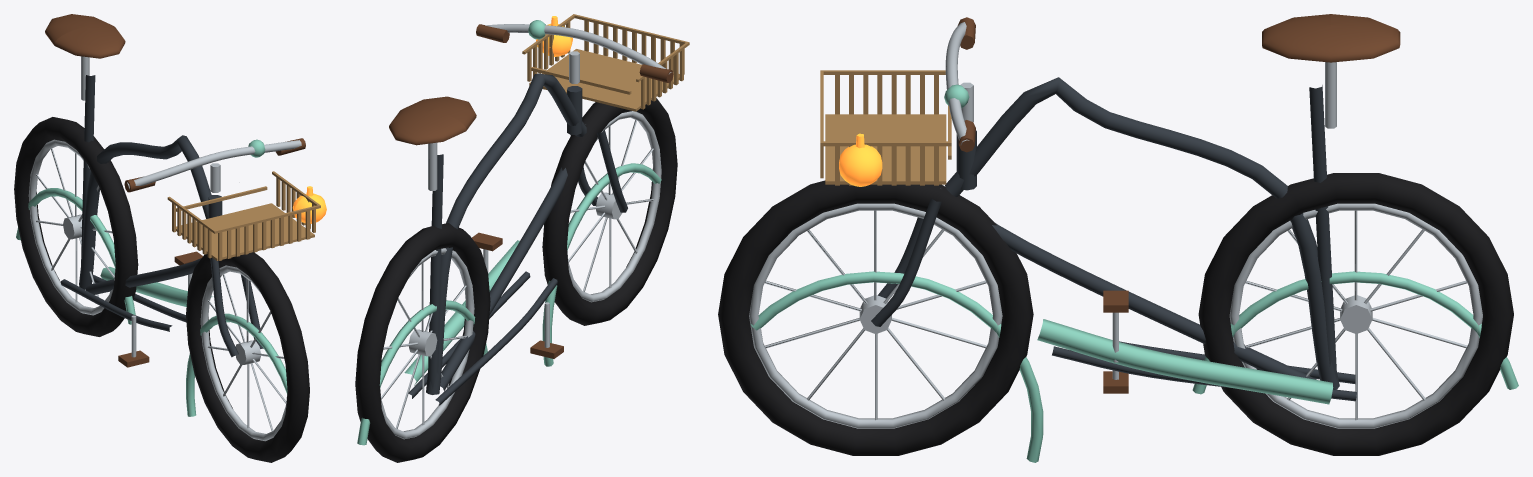
Rendered from bike.76c5fa9a.glb.
The picture shows the model from 3 angles, left to right: view 1: azimuth 30°, elevation 25°; view 2: azimuth 150°, elevation 25°; view 3: azimuth 270°, elevation 25°; orthographic projection. The views are drawn at different scales.
Visible parts, largest first — view 1: wheel_F, wheel_R, frame, basket, seat, handlebar, pedal_L; view 2: frame, wheel_R, wheel_F, basket, seat, handlebar, pedal_L, pedal_R; view 3: frame, wheel_F, wheel_R, basket, seat, handlebar, pedal_R.
Part boxes in pixels (x1,y1,x2,y2): wheel_F: (186,252,309,462); wheel_R: (14,117,138,336); frame: (16,75,287,416); basket: (167,171,326,260); seat: (45,14,125,100); handlebar: (124,138,305,192); pedal_L: (118,315,149,367); frame: (357,73,661,445); wheel_R: (355,223,490,462); wheel_F: (542,98,677,325); basket: (522,14,689,111); seat: (389,96,476,190); handlebar: (476,20,673,83); pedal_L: (530,302,563,358); pedal_R: (472,232,502,273); frame: (750,77,1518,462); wheel_F: (718,180,1033,455); wheel_R: (1198,173,1513,455); basket: (820,70,951,186); seat: (1262,14,1400,128); handlebar: (944,17,975,152); pedal_R: (1103,290,1128,362).
Bounding box in the file's own units: 0.5665 × 0.9521 × 1.58.
